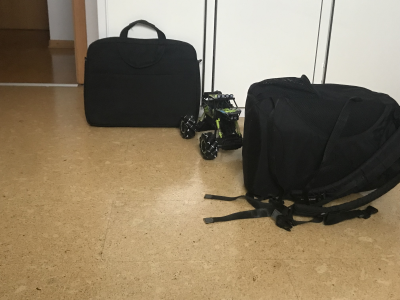remote control car: (177, 85, 250, 161)
